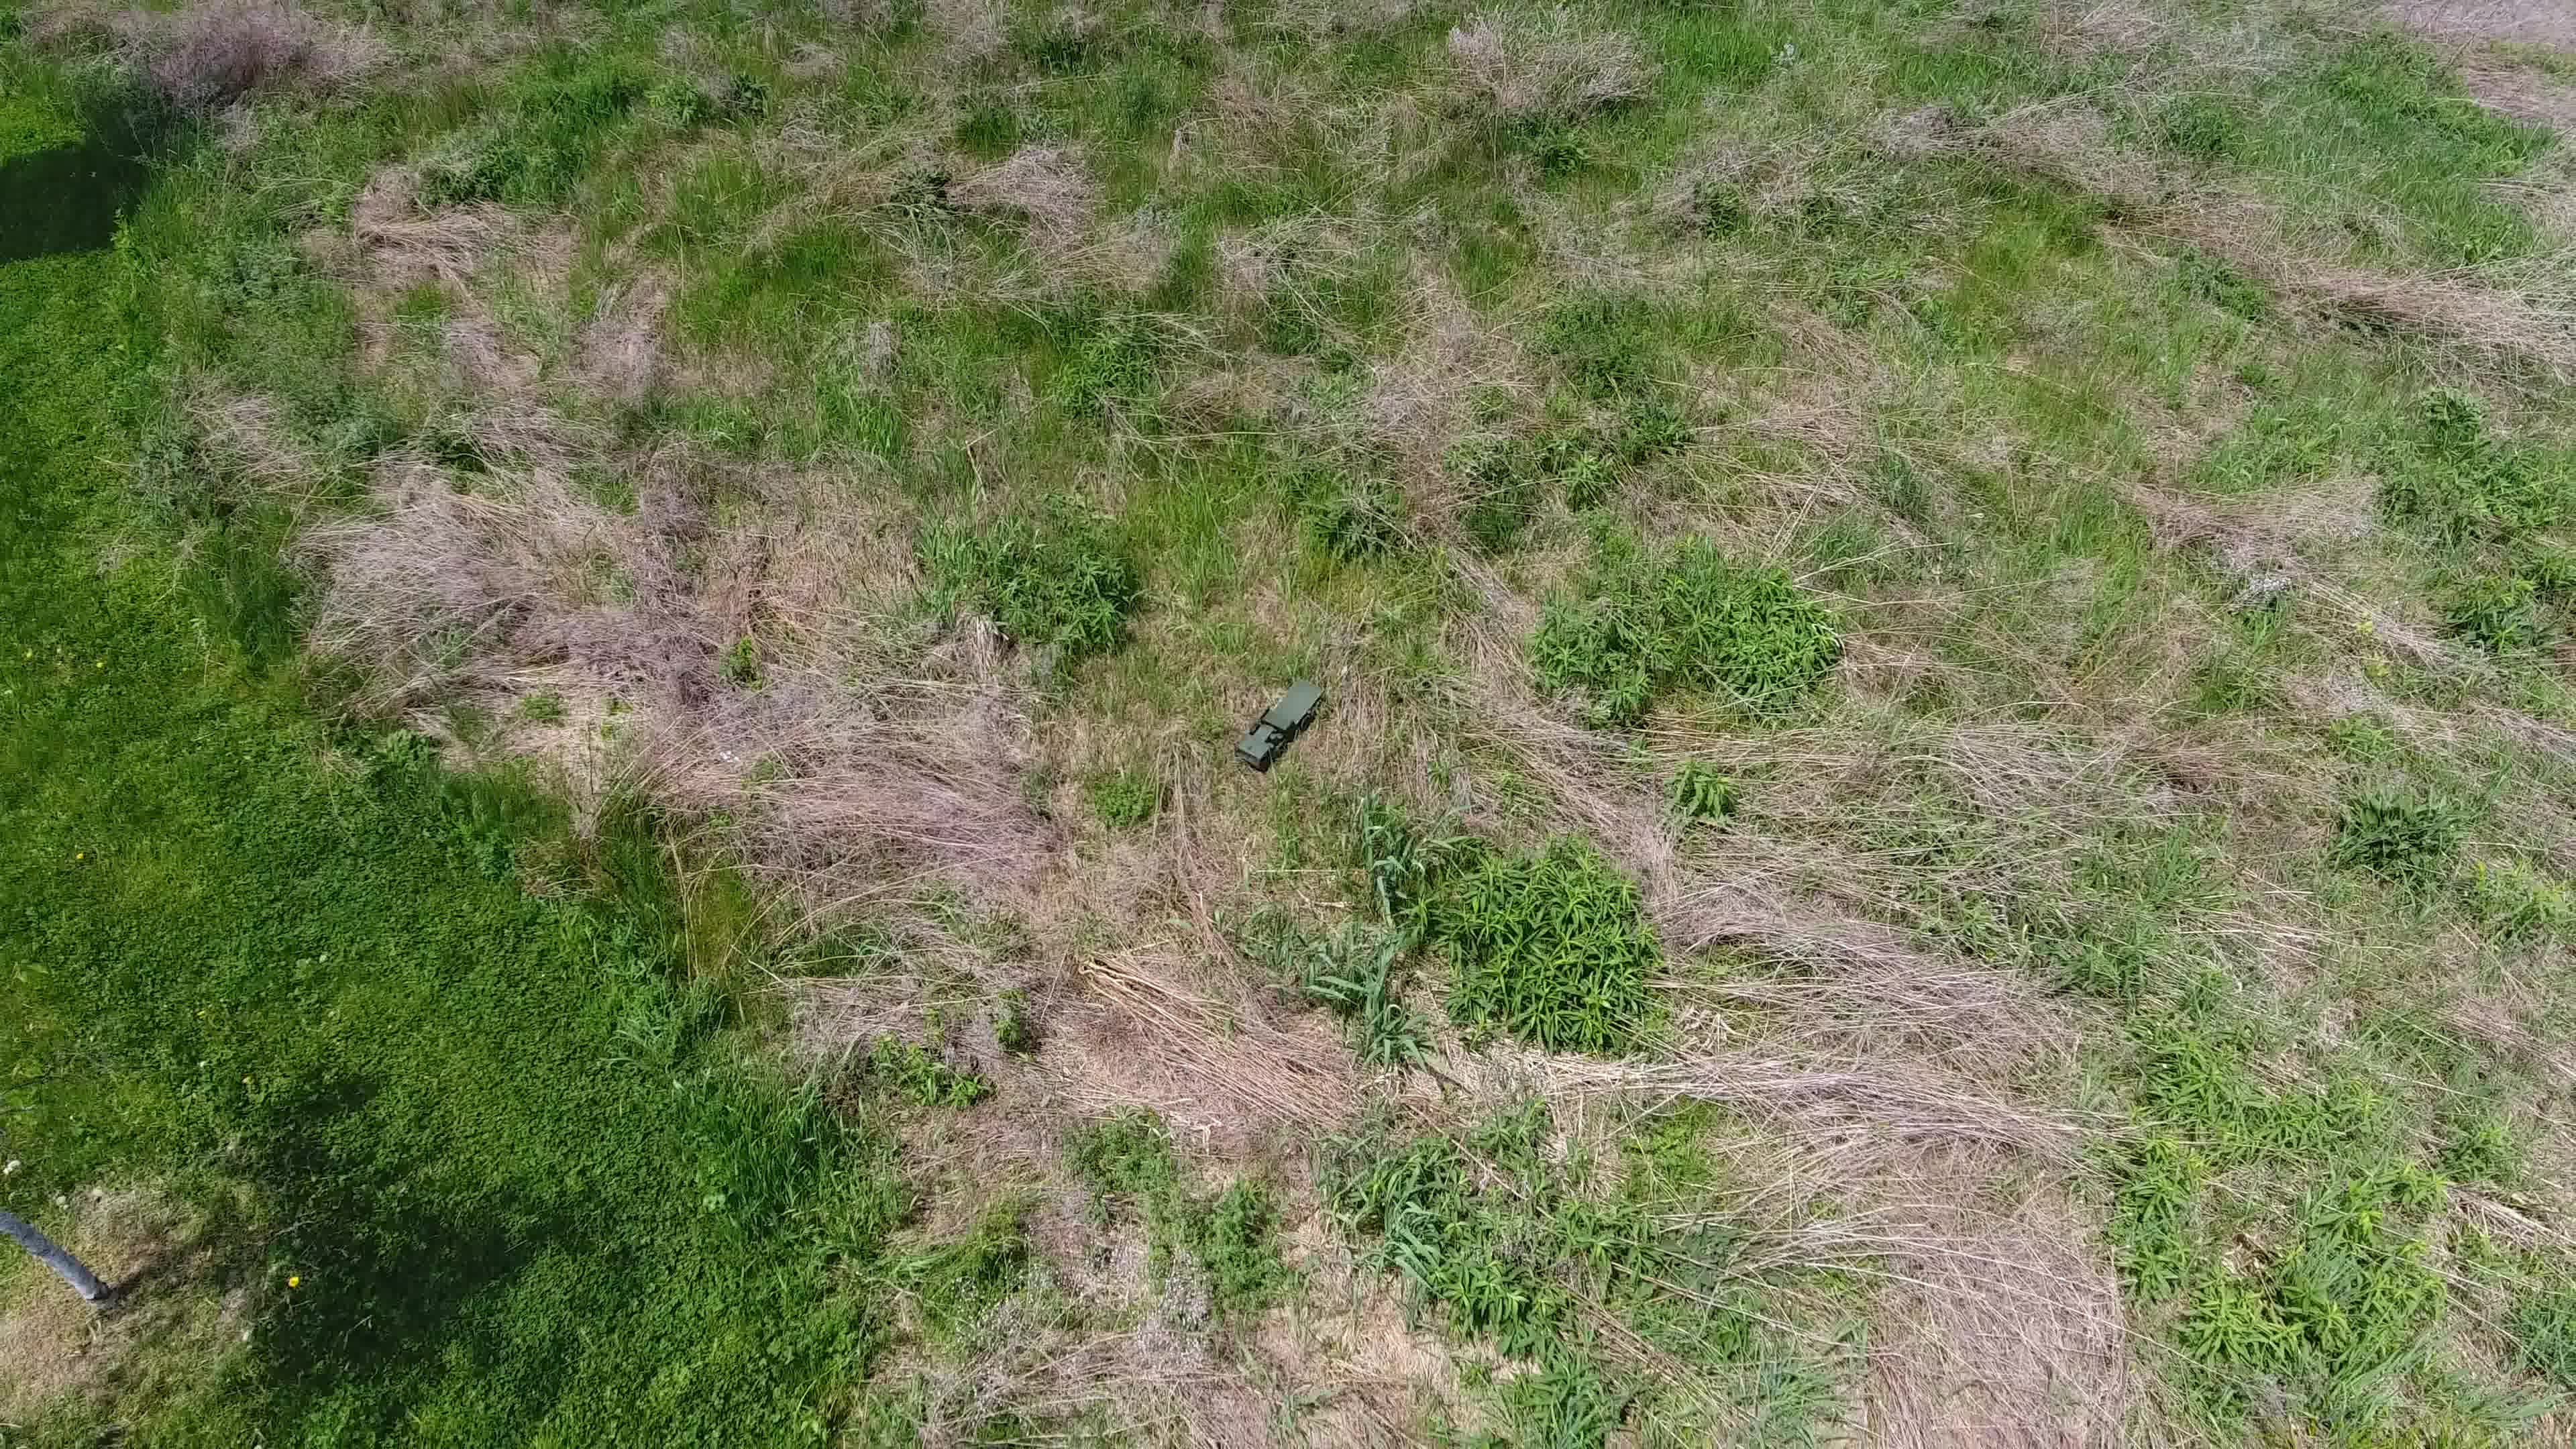transporter9: (1231, 676, 1327, 775)
